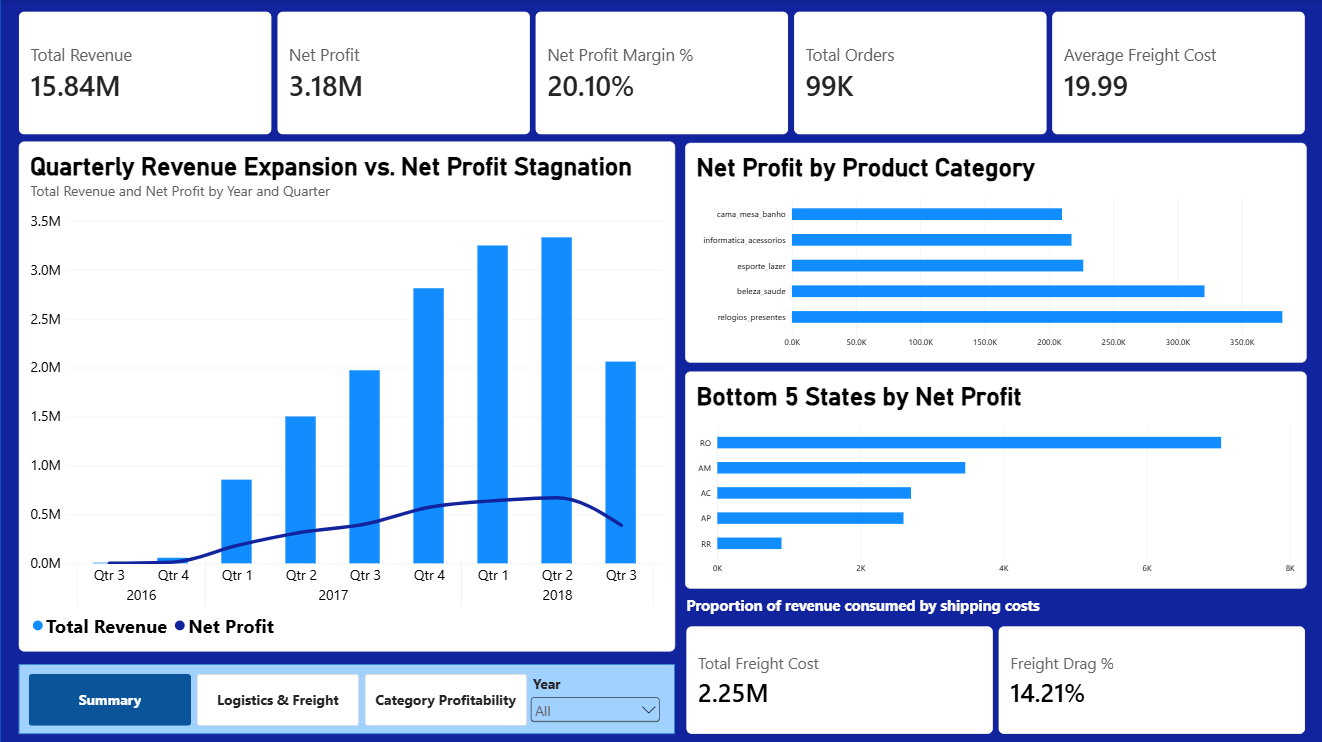

This screenshot's page, from the dashboard's own definition file:
{"tool":"powerbi","page":{"name":"Summary","canvas":[1920,1080],"ordinal":0},"visuals":[{"type":"shape","box":[0,0,1920,1080],"z":0},{"type":"cardVisual","fields":{"Data":["olist_order_items_dataset.Total Revenue","olist_order_items_dataset.Net Profit","olist_order_items_dataset.Net Profit Margin %","olist_order_items_dataset.Total Orders","Avg(olist_order_items_dataset.freight_value)"]},"box":[28,18,1864,178],"z":1000},{"type":"lineClusteredColumnComboChart","title":"Quarterly Revenue Expansion vs. Net Profit Stagnation","fields":{"Category":["olist_orders_dataset.order_purchase_timestamp.Variation.Date Hierarchy.Year","olist_orders_dataset.order_purchase_timestamp.Variation.Date Hierarchy.Quarter","olist_orders_dataset.order_purchase_timestamp.Variation.Date Hierarchy.Month"],"Y":["olist_order_items_dataset.Total Revenue"],"Y2":["olist_order_items_dataset.Net Profit"]},"box":[27.1,207.1,950,738.6],"z":2000},{"type":"clusteredBarChart","title":"Net Profit by Product Category","fields":{"Category":["olist_products_dataset.product_category_name"],"Y":["olist_order_items_dataset.Net Profit"]},"box":[992,208,900,318],"z":3000},{"type":"clusteredBarChart","title":"Bottom 5 States by Net Profit","fields":{"Category":["olist_customers_dataset.customer_state"],"Y":["olist_order_items_dataset.Net Profit"]},"box":[992,540,900,314],"z":4000},{"type":"cardVisual","title":"Proportion of revenue consumed by shipping costs","fields":{"Data":["olist_order_items_dataset.Total Freight Cost","olist_order_items_dataset.Freight Drag %"]},"box":[994.2,862.4,897.4,201.7],"z":4001},{"type":"shape","box":[27.1,962.9,950,101.4],"z":4002},{"type":"pageNavigator","box":[41.4,977.1,722.9,75.7],"z":4003},{"type":"slicer","fields":{"Values":["olist_orders_dataset.order_purchase_timestamp.Variation.Date Hierarchy.Year"]},"box":[763.8,977.5,196.2,76.2],"z":4004}]}

Visuals, with their boxes in screenshot pixels (x1, y1, x2, y2), scaled from the page's 1920x1080 canvas onto the 1322x742 screenshot:
shape: (0, 0, 1321, 741)
cardVisual - olist_order_items_dataset.Total Revenue x olist_order_items_dataset.Net Profit: (19, 12, 1303, 135)
"Quarterly Revenue Expansion vs. Net Profit Stagnation" lineClusteredColumnComboChart: (19, 142, 673, 650)
"Net Profit by Product Category" clusteredBarChart: (683, 143, 1303, 361)
"Bottom 5 States by Net Profit" clusteredBarChart: (683, 371, 1303, 587)
"Proportion of revenue consumed by shipping costs" cardVisual: (685, 593, 1302, 731)
shape: (19, 662, 673, 731)
pageNavigator: (29, 671, 526, 723)
slicer - olist_orders_dataset.order_purchase_timestamp.Variation.Date Hierarchy.Year: (526, 672, 661, 724)
